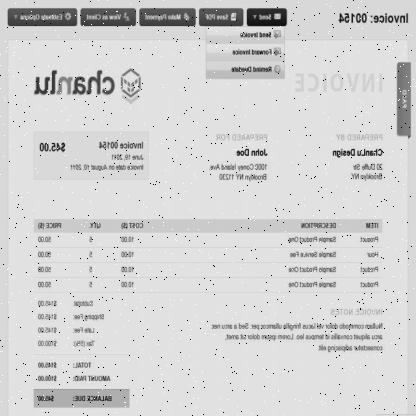Paragraph: (209, 306, 385, 356), (35, 296, 109, 351), (38, 139, 146, 173), (208, 132, 270, 184), (331, 132, 385, 184), (294, 72, 384, 93), (36, 360, 112, 384), (338, 12, 410, 24), (37, 394, 113, 402), (20, 12, 64, 22), (86, 12, 122, 22), (232, 48, 272, 56), (144, 13, 182, 21), (230, 66, 272, 73), (240, 31, 272, 39), (205, 13, 229, 21), (259, 14, 272, 20)
Table: (34, 218, 384, 292)
